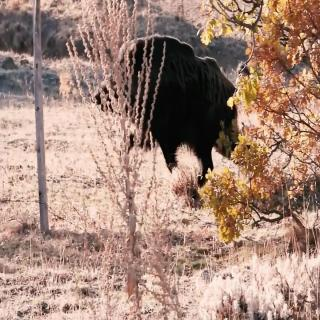Pig: (116, 35, 242, 181)
